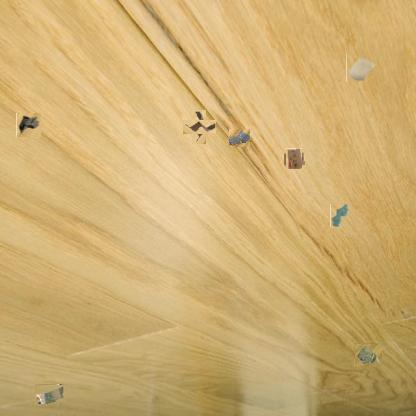dirty: (346, 54, 377, 82), (354, 343, 382, 367), (17, 113, 41, 138), (35, 384, 65, 404), (187, 115, 211, 139), (285, 150, 304, 168)
liquid: (330, 203, 349, 227), (230, 129, 252, 147)
